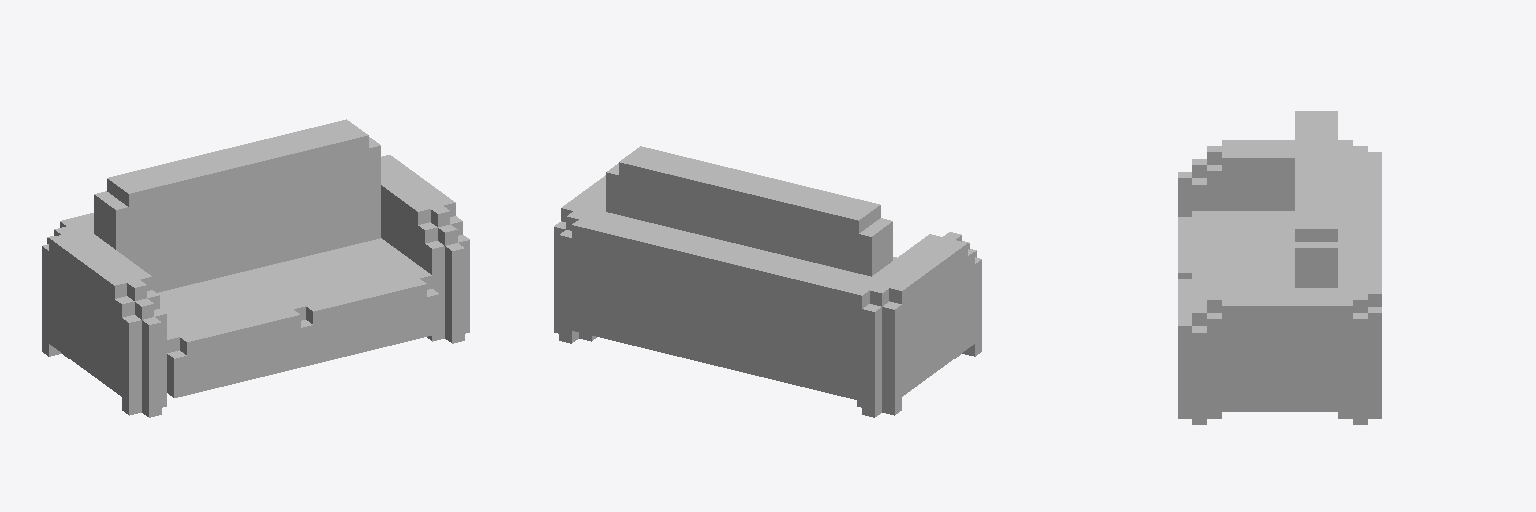
File: 3D Voxel Office Pack-43.obj
3 views of the same model, side by side, from view 1: azimuth 30°, elevation 25°; view 2: azimuth 150°, elevation 25°; view 3: azimuth 270°, elevation 25° (orthographic).
Parts seen in each view (by area): view 1: object 1; view 2: object 1; view 3: object 1.
Boxes of the visible parts, box(x1,y1,x2,y2) form: object 1: box(42, 119, 469, 417); object 1: box(554, 146, 981, 417); object 1: box(1178, 111, 1381, 424).
Bounding box in the file's own units: 2.7 × 1.3 × 1.4.